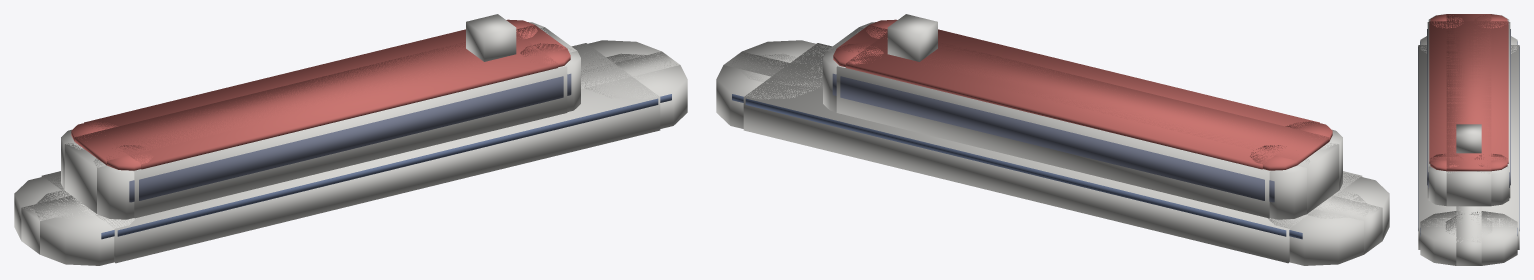
Rendered from boat_excursion.glb.
The picture shows the model from 3 angles, left to right: view 1: azimuth 30°, elevation 25°; view 2: azimuth 150°, elevation 25°; view 3: azimuth 270°, elevation 25°; orthographic projection. The views are drawn at different scales.
Parts seen in each view (by area): view 1: boat_excursion; view 2: boat_excursion; view 3: boat_excursion.
Part boxes in pixels (<box>): boat_excursion: <box>14,14,687,265</box>; boat_excursion: <box>716,14,1389,265</box>; boat_excursion: <box>1418,14,1519,265</box>.
Bounding box in the file's own units: 32 × 5.3 × 6.42.
